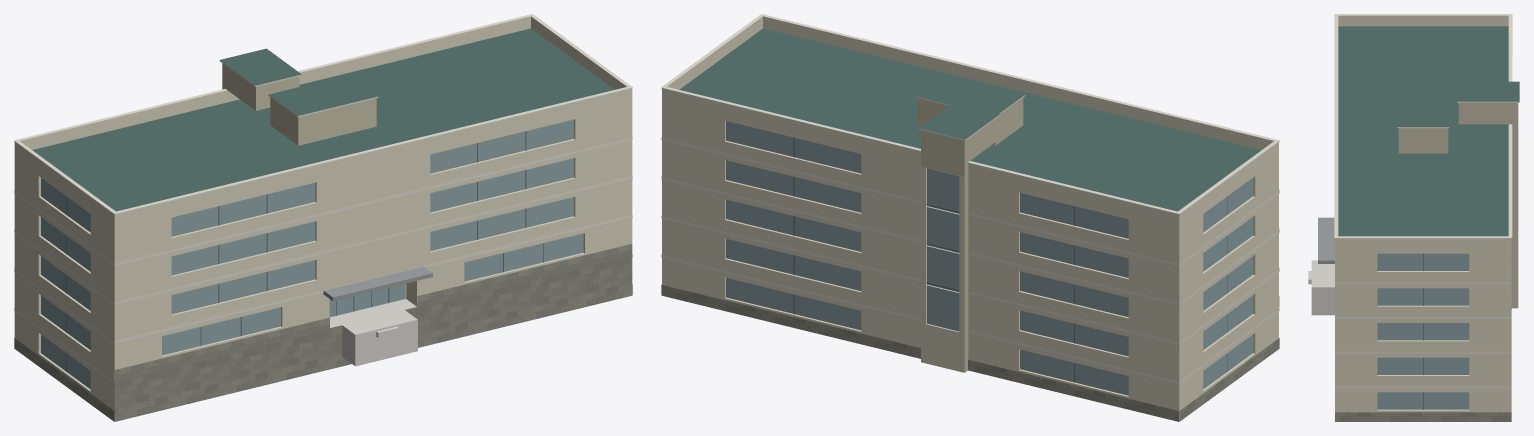
3 renders of one model, left to right at view 1: azimuth 30°, elevation 25°; view 2: azimuth 150°, elevation 25°; view 3: azimuth 270°, elevation 25°, orthographic. The views are drawn at different scales.
Parts seen in each view (by area): view 1: b936__wall, b936__roof, b936__glass, b936__base, b936__parapet, b936__trim, b936__wall2, b936__entranceStair, b936__canopy, b936__frame; view 2: b936__wall, b936__roof, b936__glass, b936__parapet, b936__trim, b936__base, b936__wall2; view 3: b936__roof, b936__wall, b936__glass, b936__trim, b936__wall2, b936__parapet, b936__base, b936__entranceStair, b936__canopy.
Boxes of the visible parts, x1=… form: b936__wall: x1=14, y1=99, x2=632, y2=421; b936__roof: x1=32, y1=28, x2=631, y2=421; b936__glass: x1=41, y1=119, x2=583, y2=389; b936__base: x1=14, y1=244, x2=632, y2=421; b936__parapet: x1=14, y1=16, x2=632, y2=225; b936__trim: x1=14, y1=14, x2=632, y2=383; b936__wall2: x1=222, y1=63, x2=376, y2=145; b936__entranceStair: x1=330, y1=299, x2=417, y2=366; b936__canopy: x1=323, y1=266, x2=432, y2=301; b936__frame: x1=66, y1=131, x2=543, y2=371; b936__wall: x1=662, y1=99, x2=1278, y2=421; b936__roof: x1=679, y1=28, x2=1261, y2=211; b936__glass: x1=726, y1=121, x2=1252, y2=395; b936__parapet: x1=662, y1=16, x2=1278, y2=225; b936__trim: x1=661, y1=14, x2=1279, y2=383; b936__base: x1=661, y1=284, x2=1279, y2=421; b936__wall2: x1=917, y1=98, x2=1023, y2=372; b936__roof: x1=1338, y1=26, x2=1519, y2=236; b936__wall: x1=1335, y1=238, x2=1511, y2=412; b936__glass: x1=1377, y1=253, x2=1469, y2=409; b936__trim: x1=1334, y1=14, x2=1519, y2=388; b936__wall2: x1=1398, y1=103, x2=1518, y2=308; b936__parapet: x1=1335, y1=15, x2=1511, y2=248; b936__base: x1=1335, y1=412, x2=1511, y2=421; b936__entranceStair: x1=1308, y1=260, x2=1334, y2=315; b936__canopy: x1=1318, y1=217, x2=1334, y2=263.
Size of the model in its own units: 49.84 by 21.53 by 19.9.
11 materials, 1 textured.
